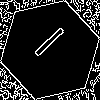I: (25, 25, 67, 66)
